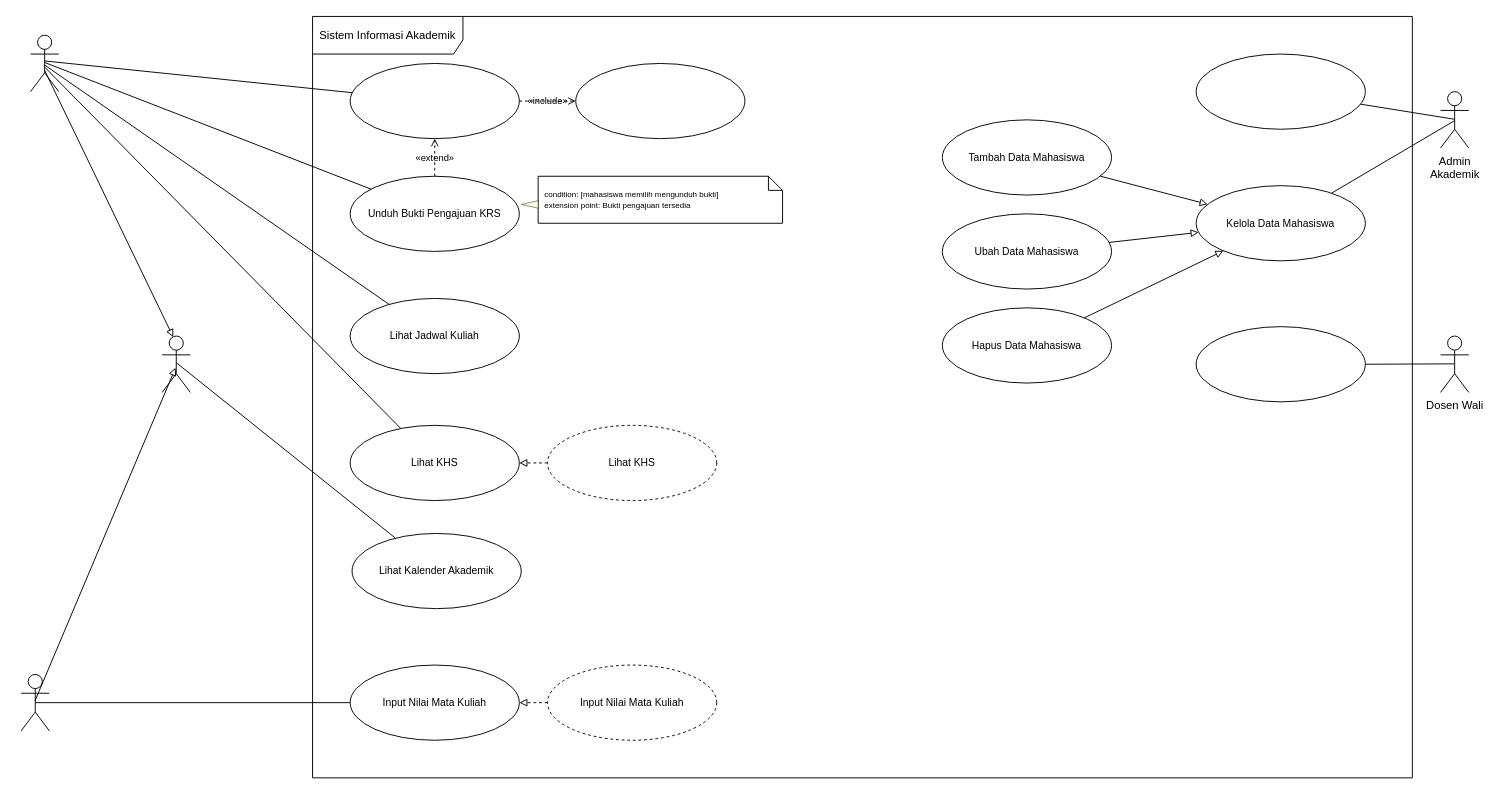
Some shapes in this 1499 by 794 pixel diagram are drawn without their labels. The centre of each missing label's shape, as x and y in pixels:
Ajukan KRS: [434,101]
Civitas Akademika: [175,363]
Dosen: [34,702]
Kelola Jadwal Kuliah: [1280,91]
Mahasiswa: [44,63]
Proses Keputusan KRS: [1280,364]
Validasi KRS: [660,101]
